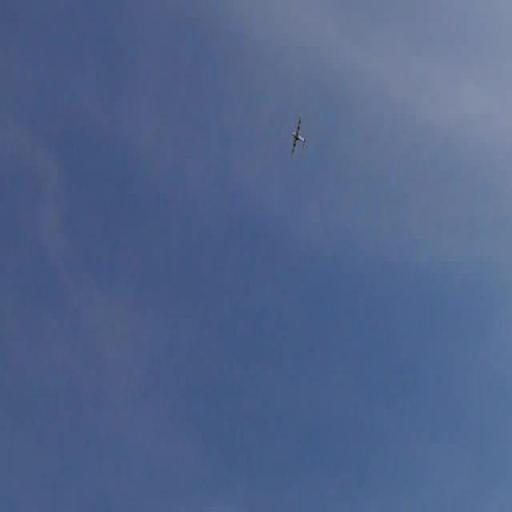uav: (287, 110, 310, 162)
